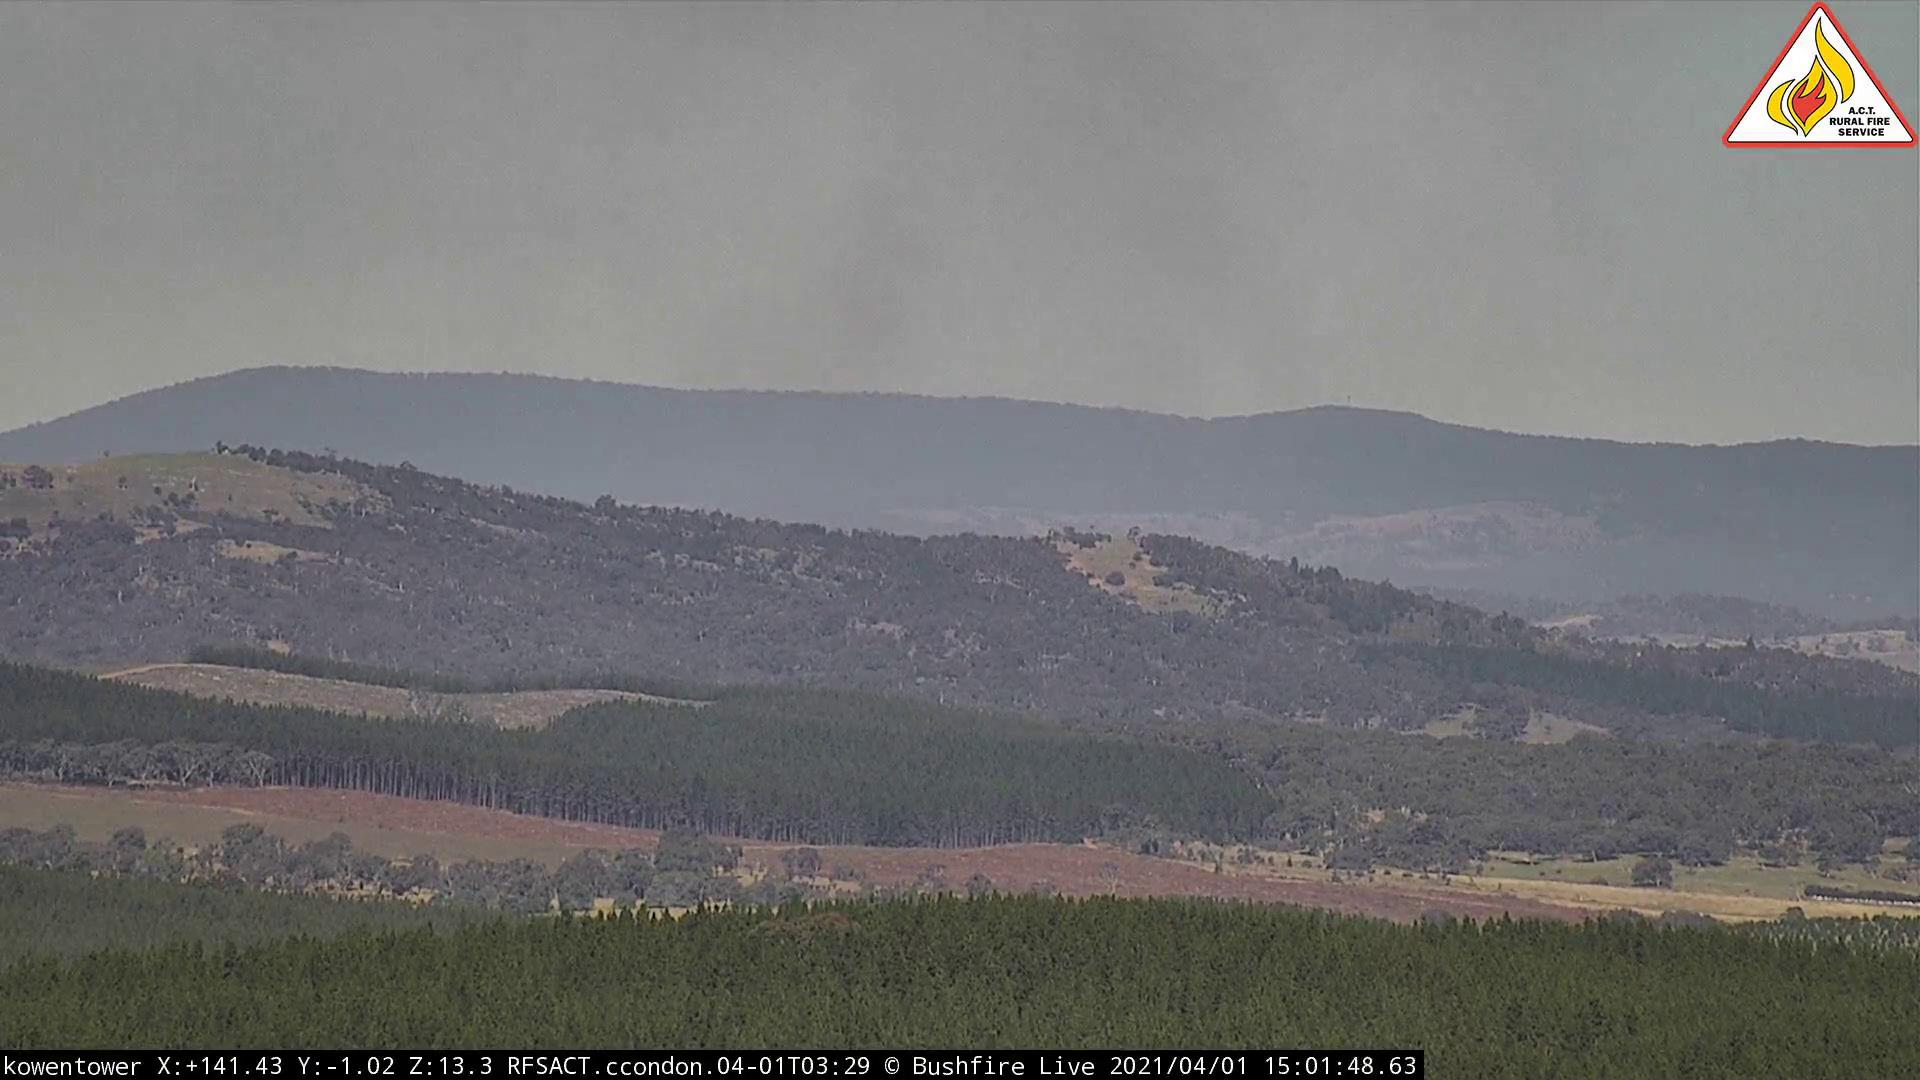Smoke: (502, 22, 1478, 423)
